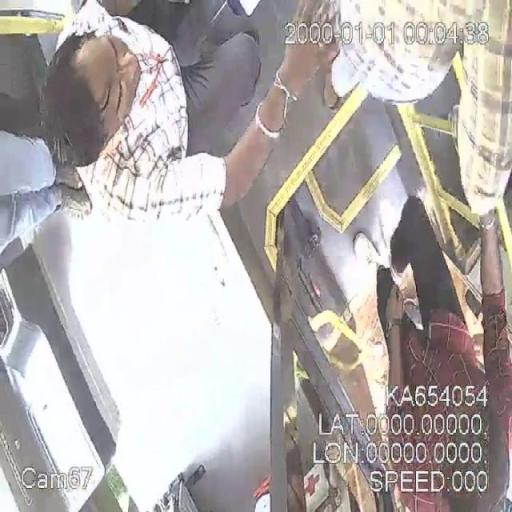persona: (32, 0, 343, 223), (352, 188, 512, 512), (324, 2, 512, 216), (0, 120, 91, 268)
